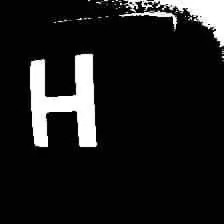LTR_H: (21, 46, 102, 148)
